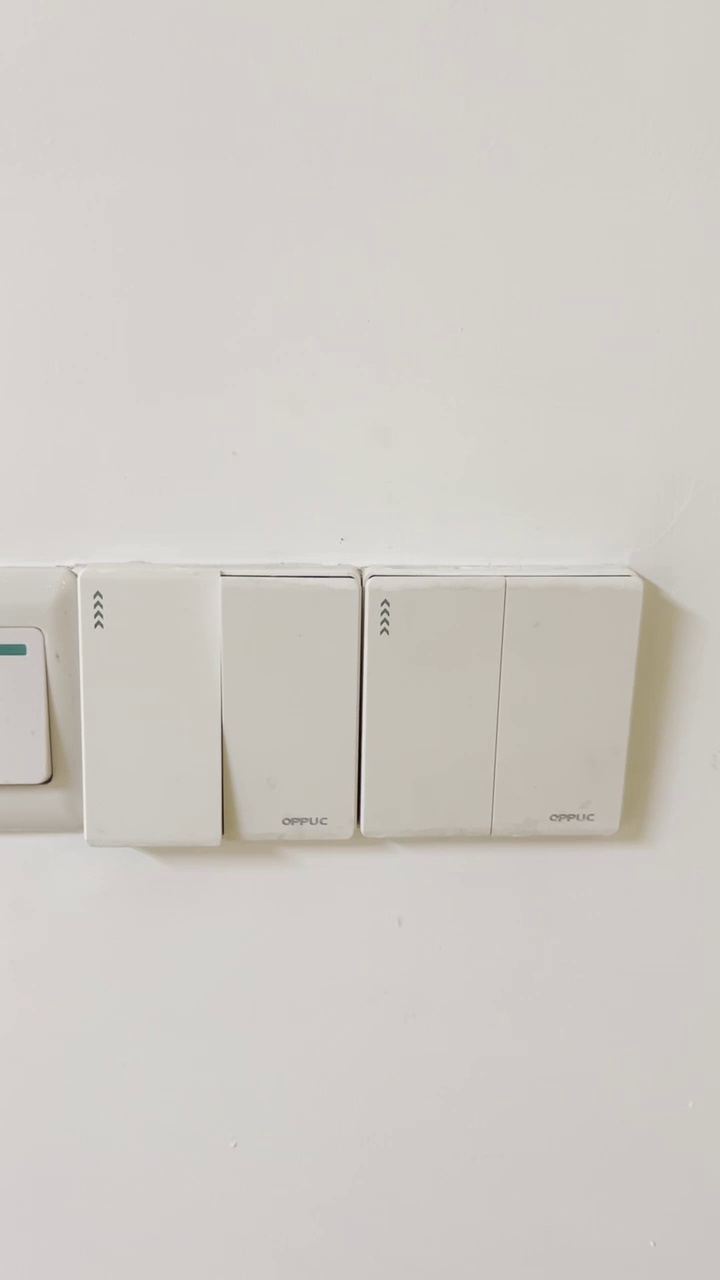button1: (86, 574, 219, 840), (366, 576, 496, 839), (499, 577, 629, 833), (229, 582, 351, 839)
